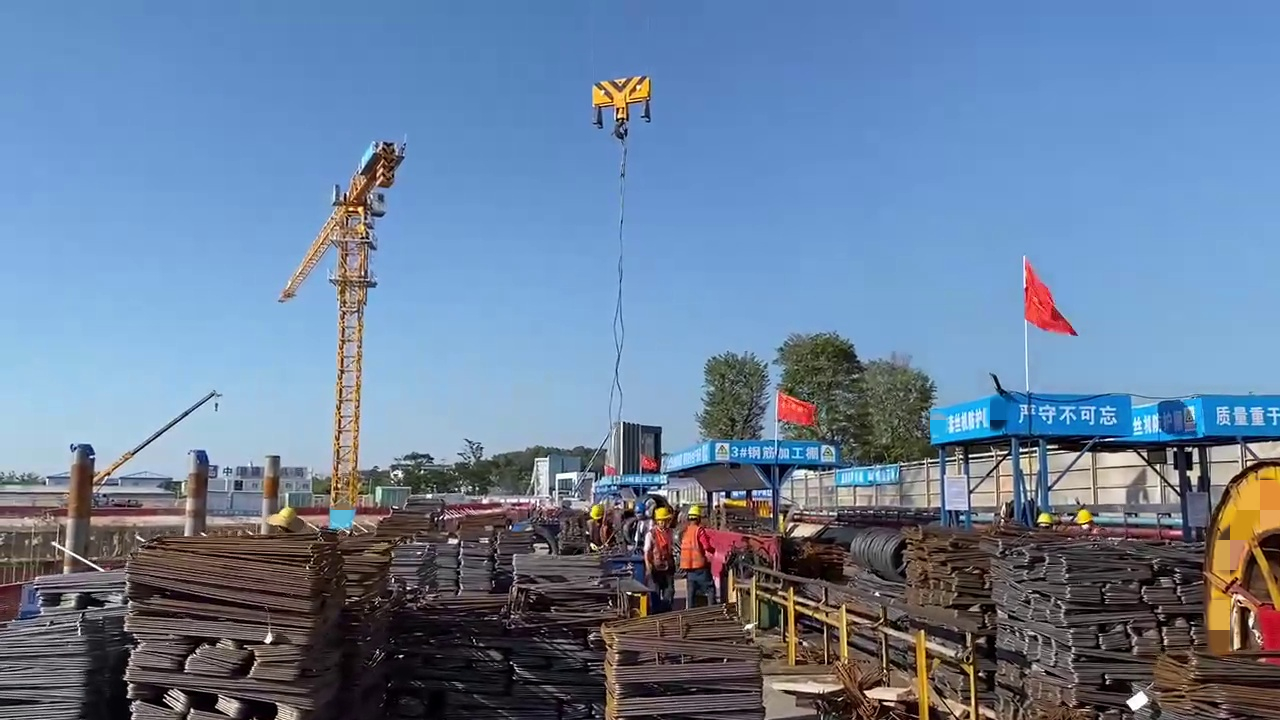helmet: (1036, 512, 1053, 528), (652, 507, 671, 520), (590, 505, 605, 520), (1077, 509, 1093, 523), (687, 504, 702, 518)
hook: (588, 76, 651, 111)
person: (679, 507, 711, 607), (650, 507, 674, 609), (626, 505, 646, 555), (587, 504, 608, 547)
rebar: (989, 543, 1221, 720), (149, 541, 344, 720), (584, 605, 781, 720), (358, 511, 523, 600), (1152, 644, 1280, 720), (514, 547, 623, 630), (905, 523, 977, 647)
slogan: (998, 397, 1126, 429), (1205, 399, 1280, 430)
vest: (679, 526, 704, 573)
